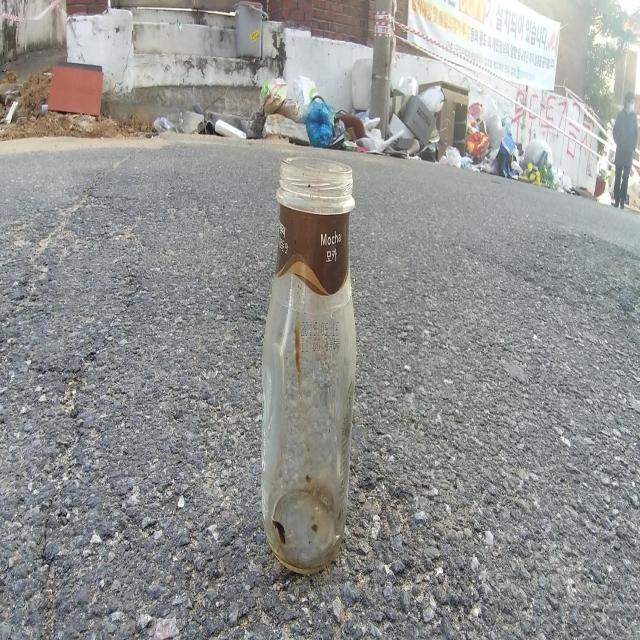glass: (262, 154, 357, 572)
